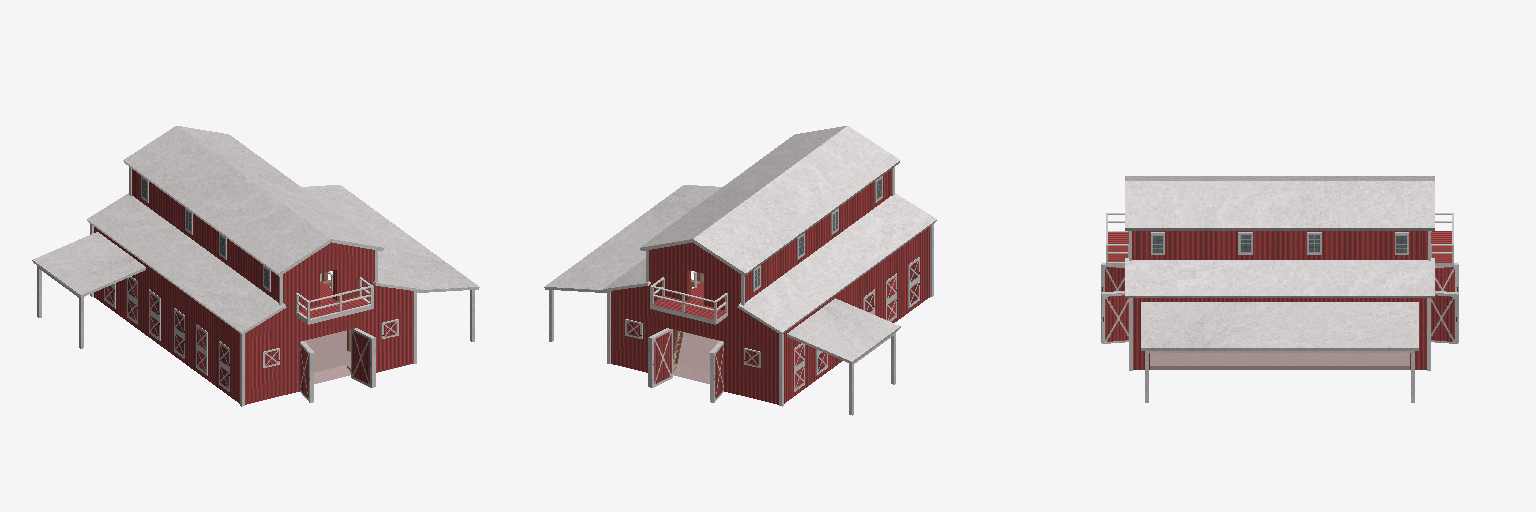
3 views of the same model, side by side, from view 1: azimuth 30°, elevation 25°; view 2: azimuth 150°, elevation 25°; view 3: azimuth 270°, elevation 25° (orthographic).
Visible parts, largest first — view 1: Barn_Small-Side-Roof_Plane.011; view 2: Barn_Small-Side-Roof_Plane.011; view 3: Barn_Small-Side-Roof_Plane.011.
Part boxes in pixels (x1,y1,x2,y2): Barn_Small-Side-Roof_Plane.011: (32, 126, 479, 406); Barn_Small-Side-Roof_Plane.011: (544, 126, 936, 415); Barn_Small-Side-Roof_Plane.011: (1101, 176, 1458, 402).
Size of the model in its own units: 143 by 65.79 by 144.
Materials: 1 (1 with a texture image).